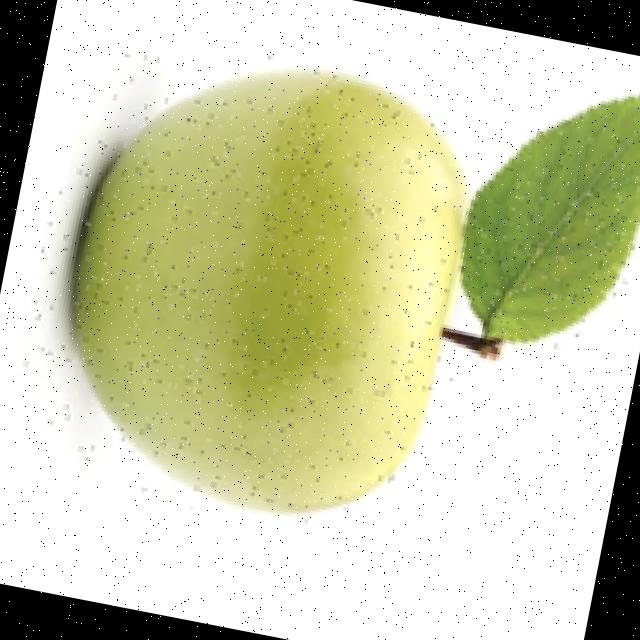apple: (30, 60, 640, 526)
